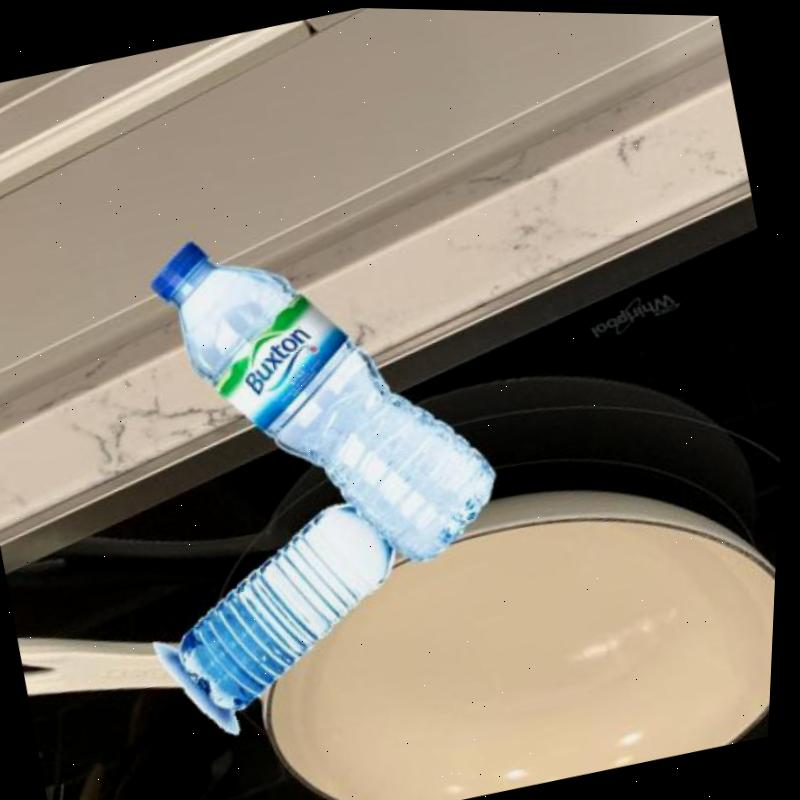botella: (135, 184, 524, 611), (151, 483, 430, 723)
